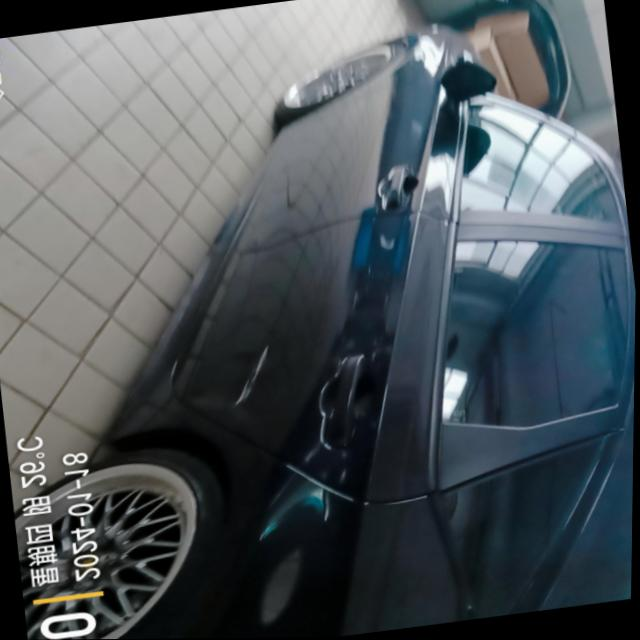Scratch: (232, 343, 268, 405)
